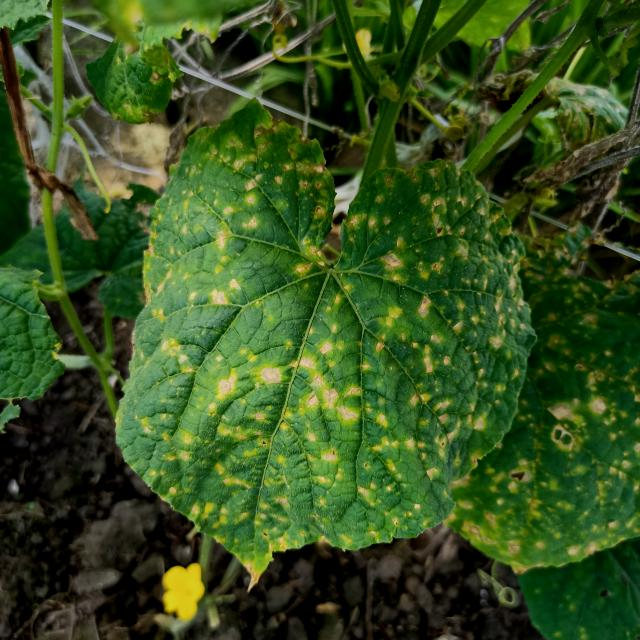disease_cucumber: (115, 119, 532, 554), (456, 275, 640, 564)
